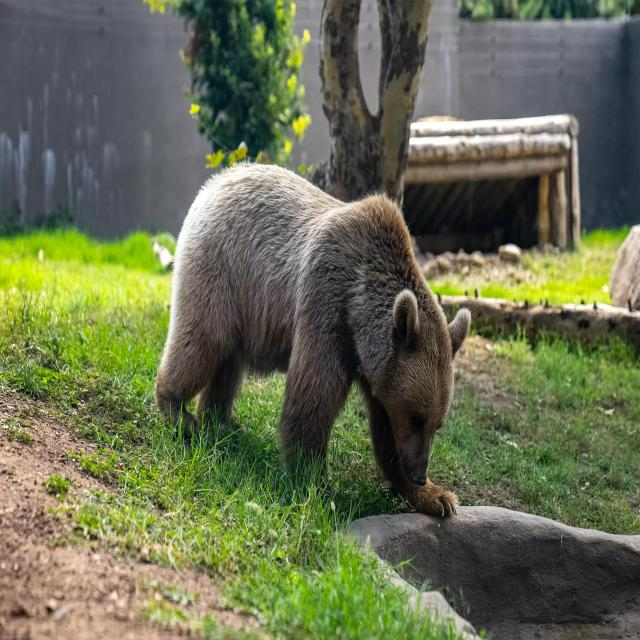Bear: (154, 163, 470, 520)
